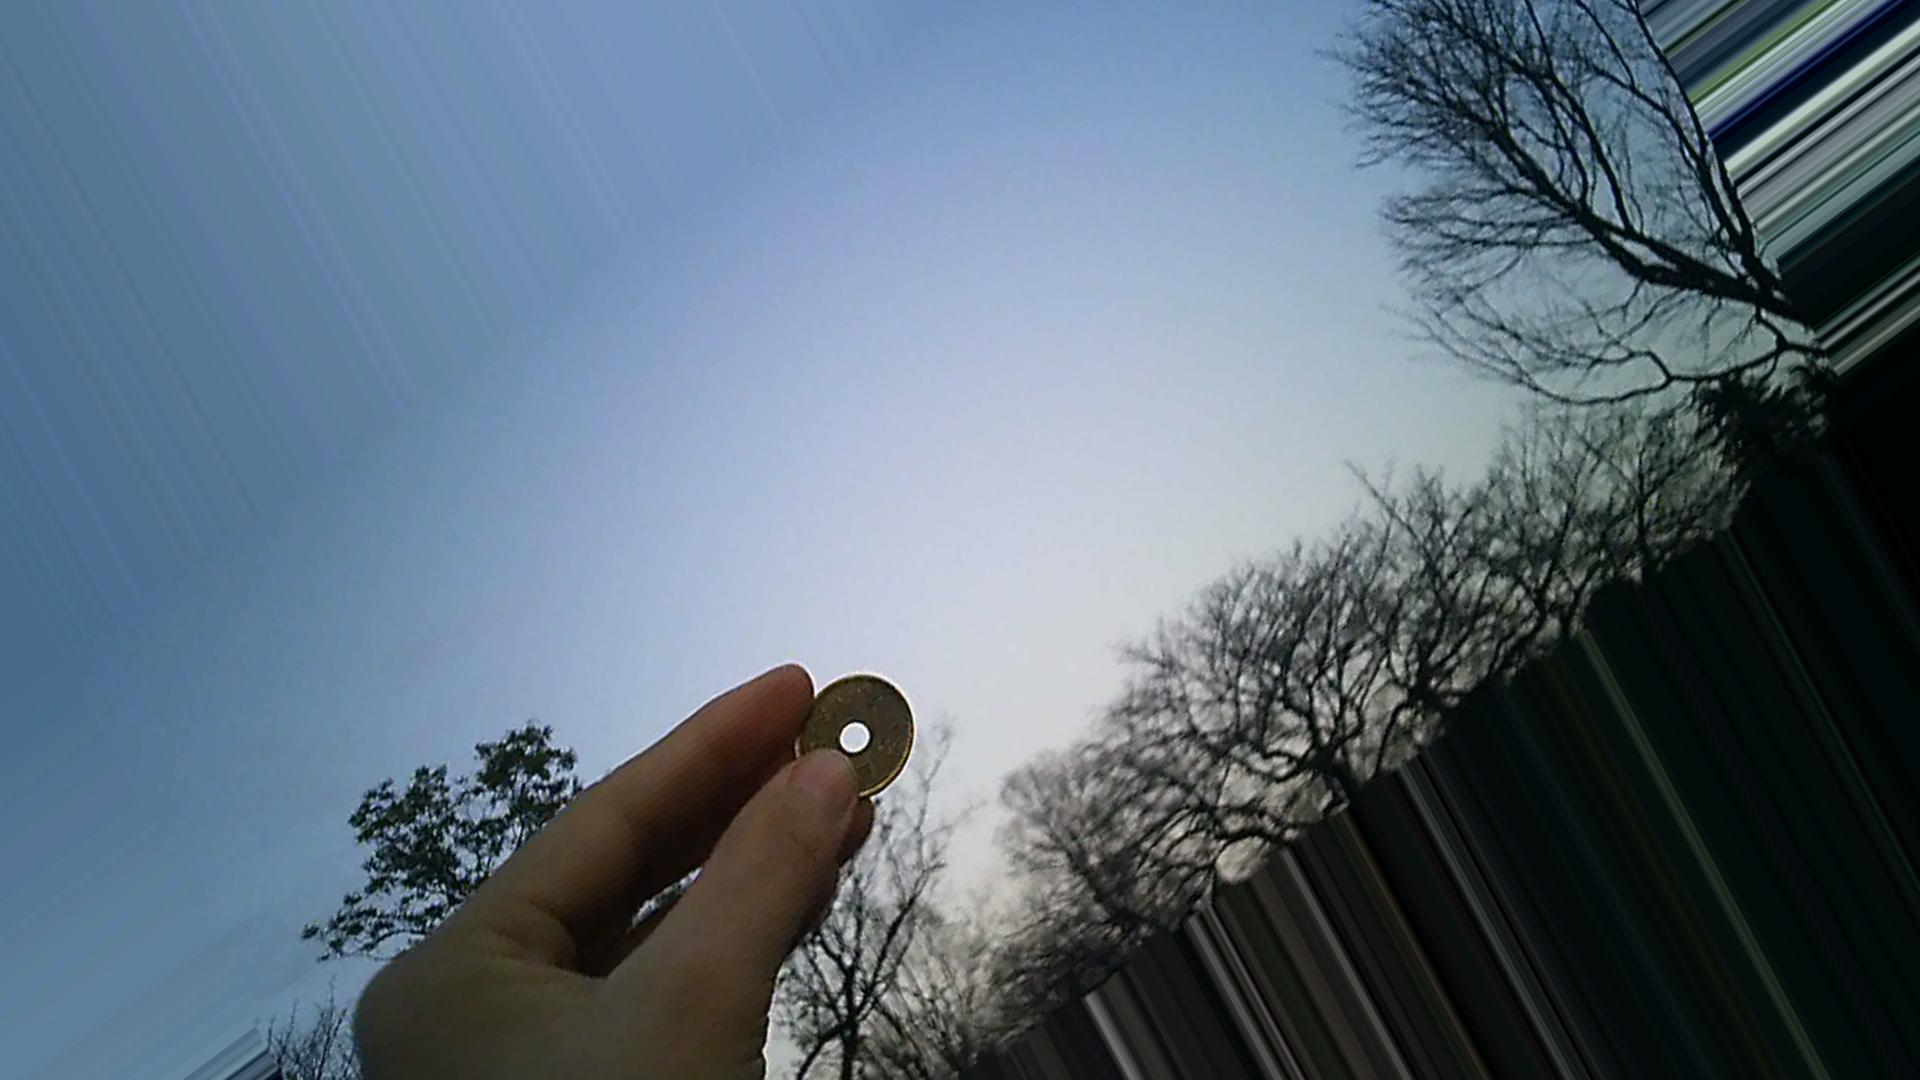5 Yen: (781, 669, 928, 804)
